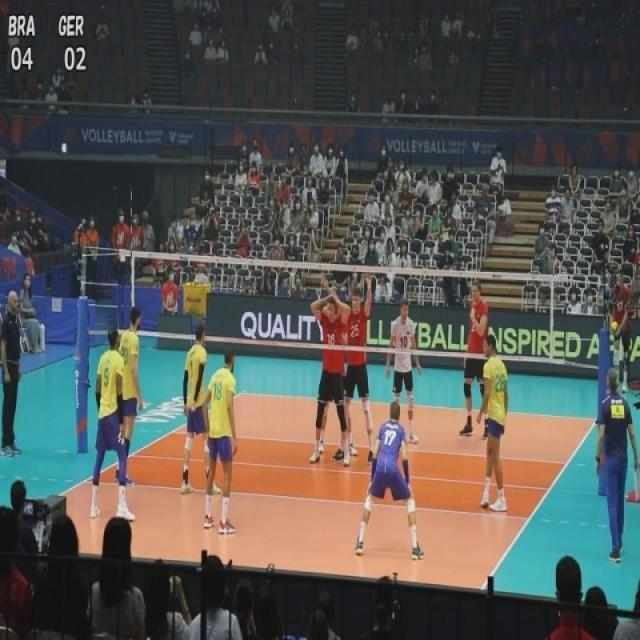volleyball: (610, 320, 620, 337)
